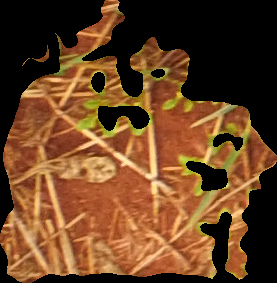soil: (2, 1, 276, 281)
